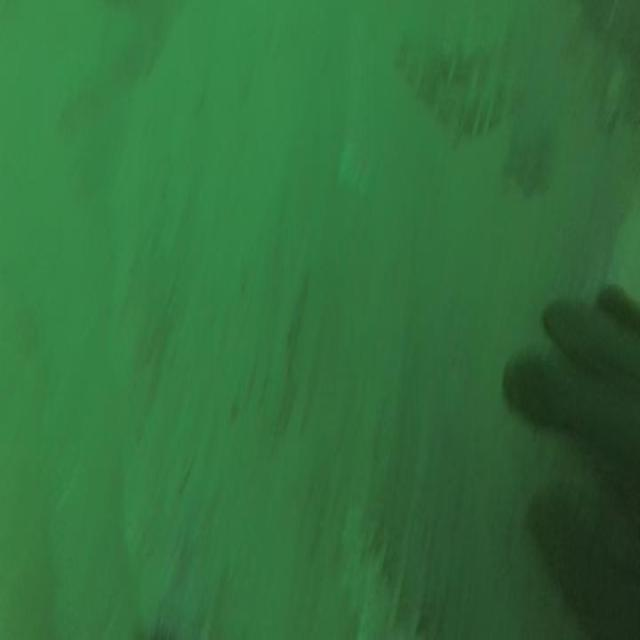holothurian: (388, 28, 514, 147), (328, 490, 416, 640)
starfish: (140, 485, 228, 640), (497, 101, 555, 199)
